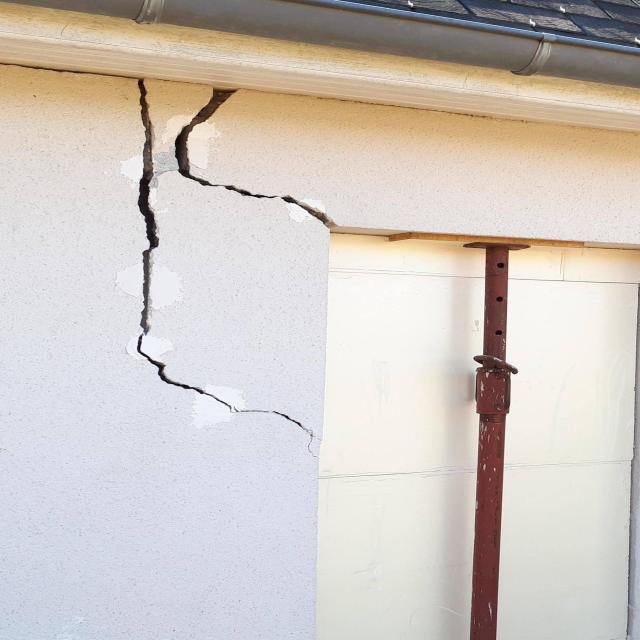crack: (129, 73, 240, 407), (169, 87, 337, 229)
